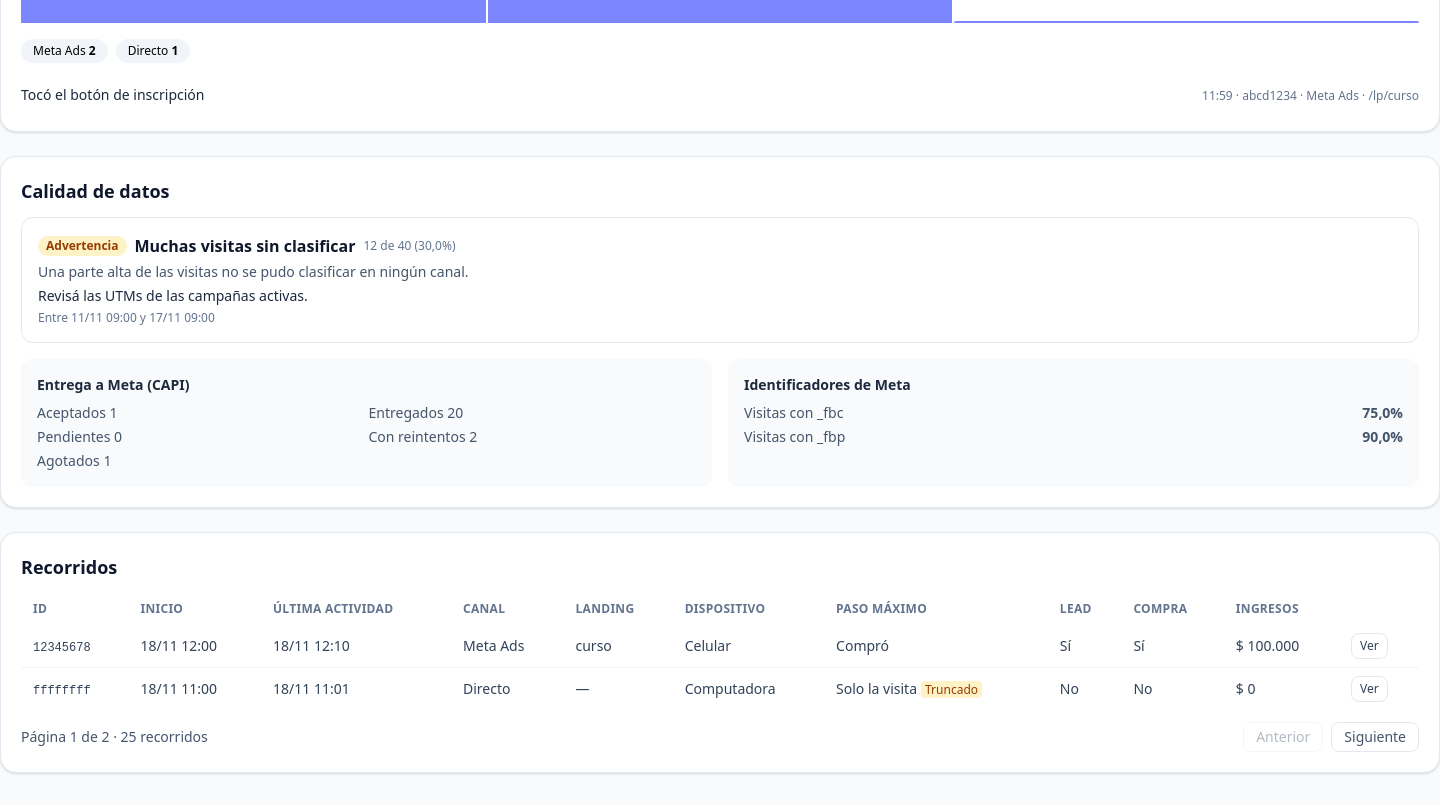
Test: AcquisitionPage › opens one journey with its full id and shows its timeline
(page scrolled)
Click the button with aria-label "ver recorrido 12345678": coordinates (1369, 646) 1351,633 -> 1388,659
(page scrolled)
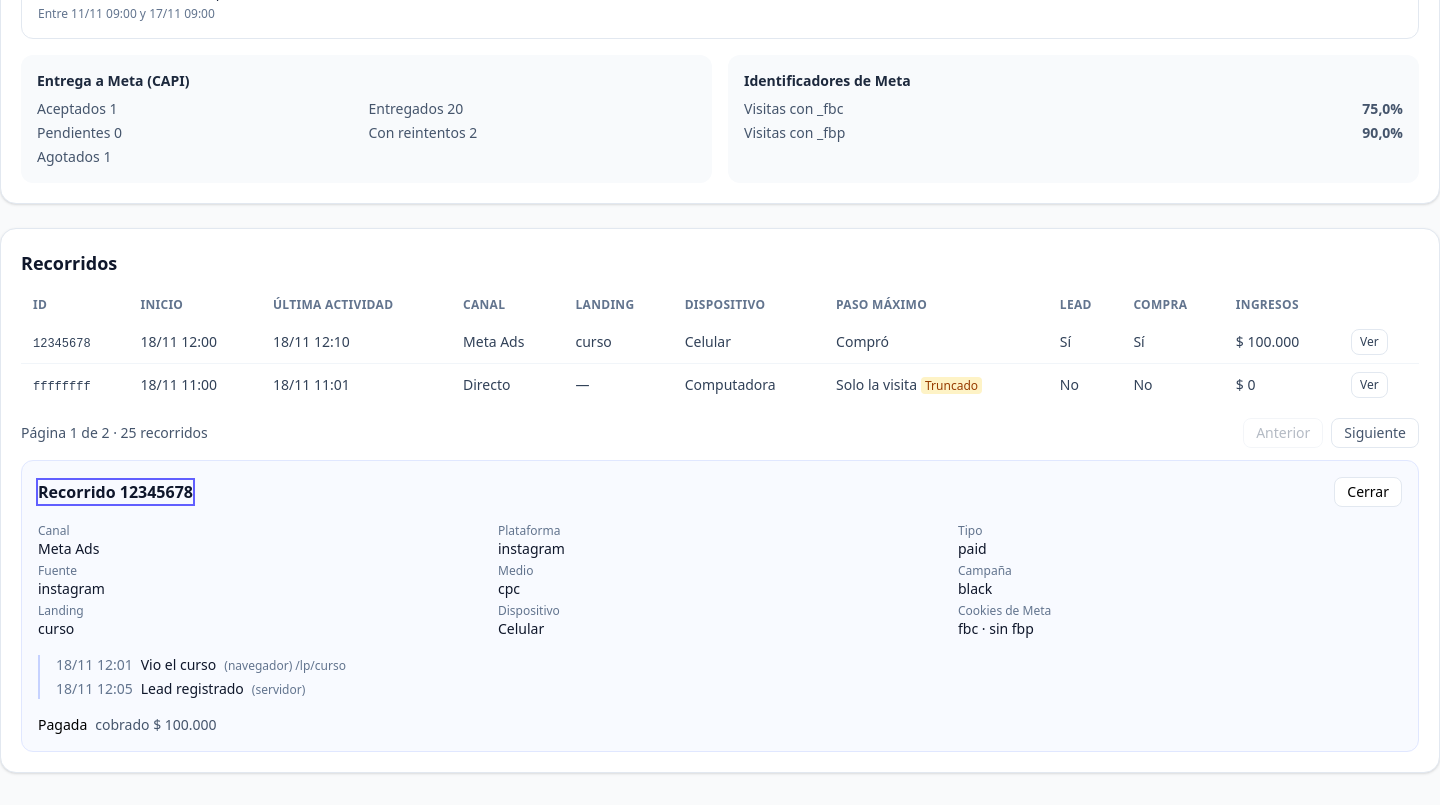
expect the text "Lead registrado" is shown: met, box 141,679 -> 244,698
